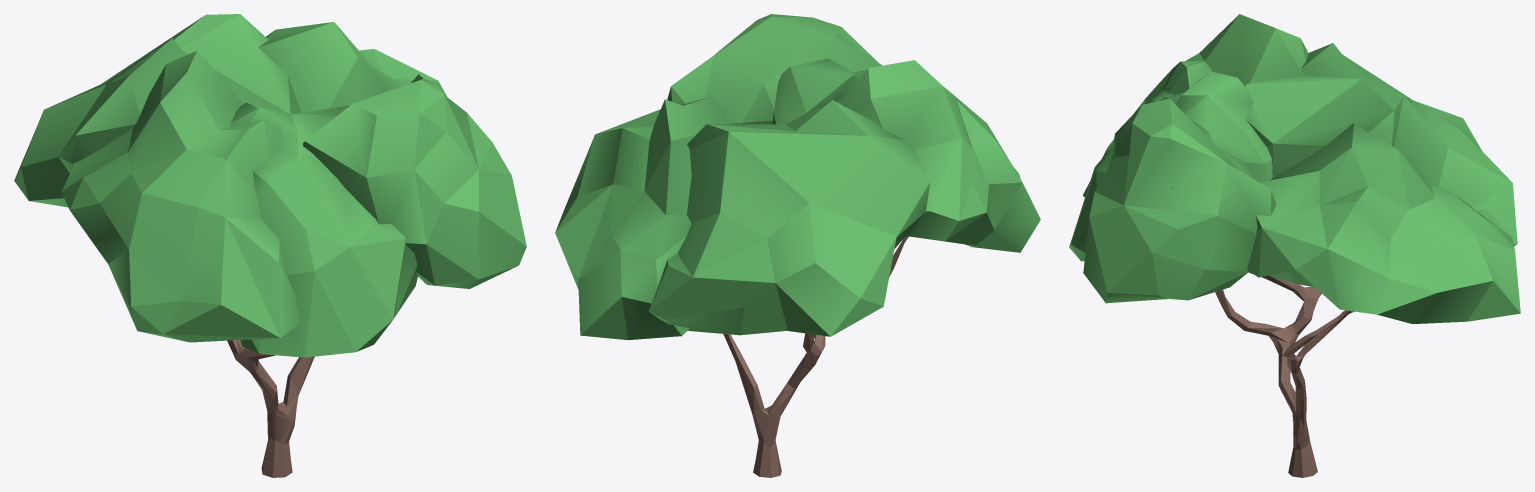
Rendered from tree_004.glb.
The picture shows the model from 3 angles, left to right: view 1: azimuth 30°, elevation 25°; view 2: azimuth 150°, elevation 25°; view 3: azimuth 270°, elevation 25°; orthographic projection. The views are drawn at different scales.
Parts seen in each view (by area): view 1: tree_004; view 2: tree_004; view 3: tree_004.
Boxes of the visible parts, bbox=[...] form: tree_004: bbox=[14, 14, 526, 477]; tree_004: bbox=[555, 14, 1040, 477]; tree_004: bbox=[1069, 14, 1520, 477].
Size of the model in its own units: 5.48 by 5.85 by 5.91.
Materials: 1 (1 with a texture image).
